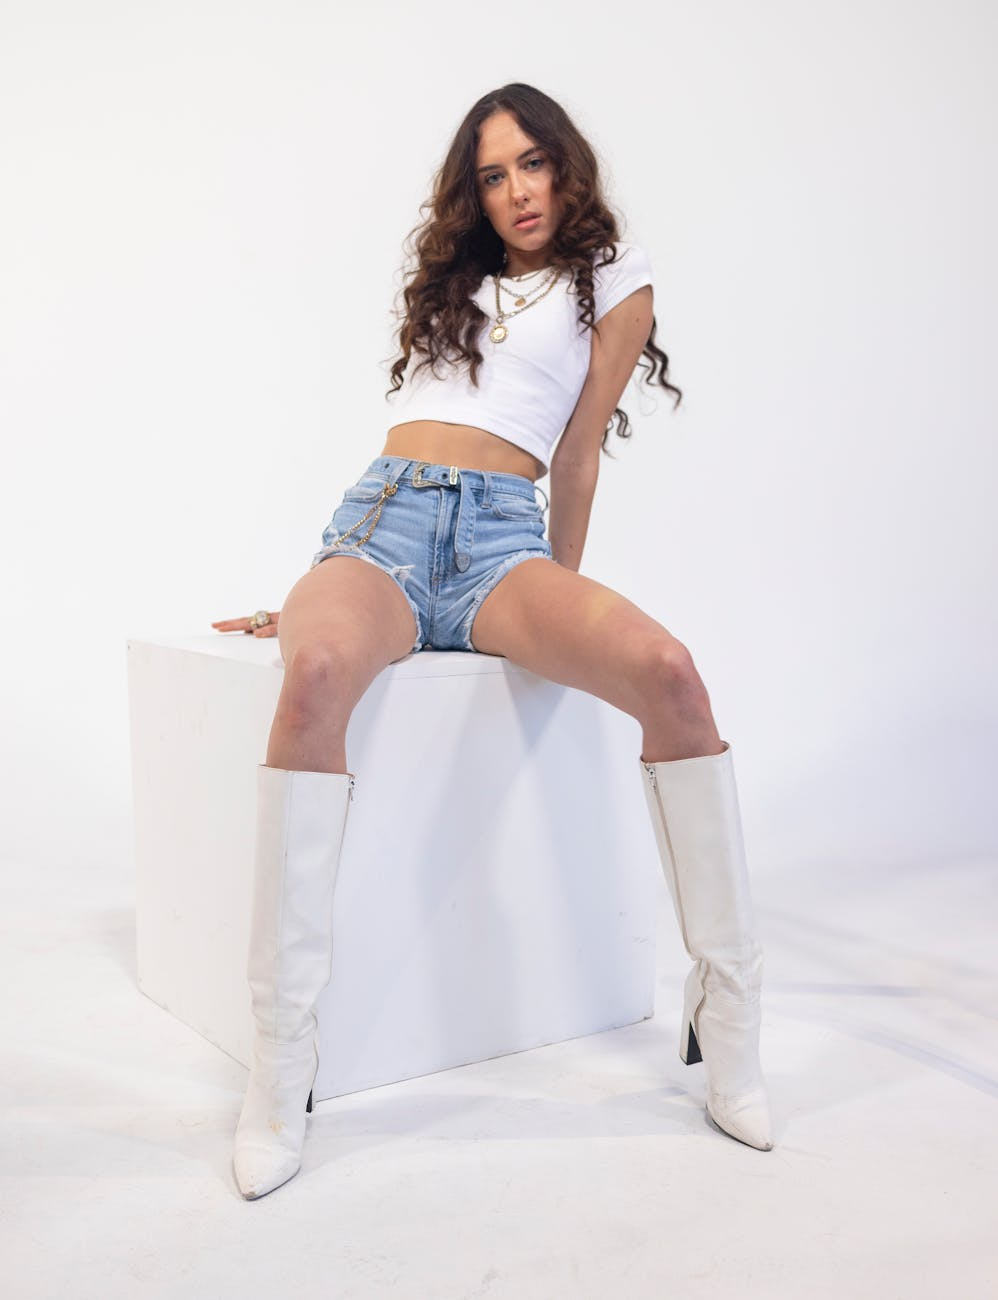crop_top: (374, 261, 625, 458)
shorts: (317, 453, 582, 648)
